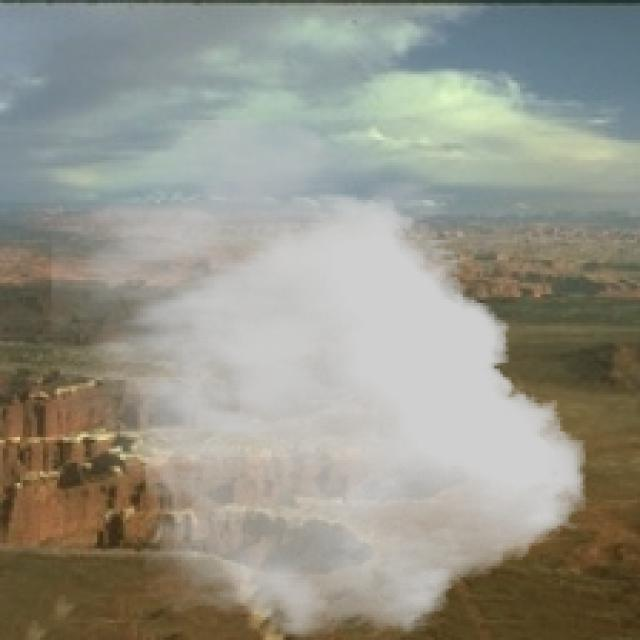smoke: (51, 120, 588, 637)
